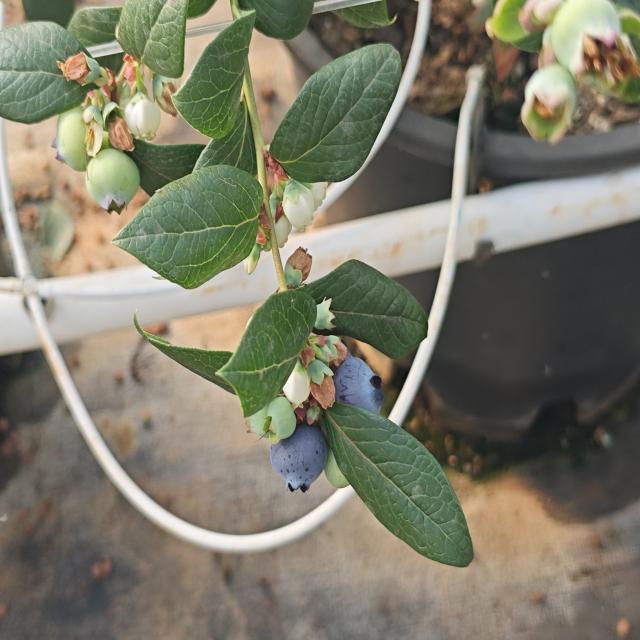ripe: (257, 424, 334, 487), (330, 349, 385, 432)
